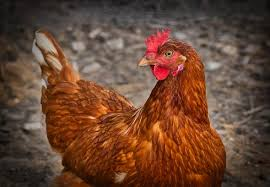chicken: (17, 21, 243, 187)
